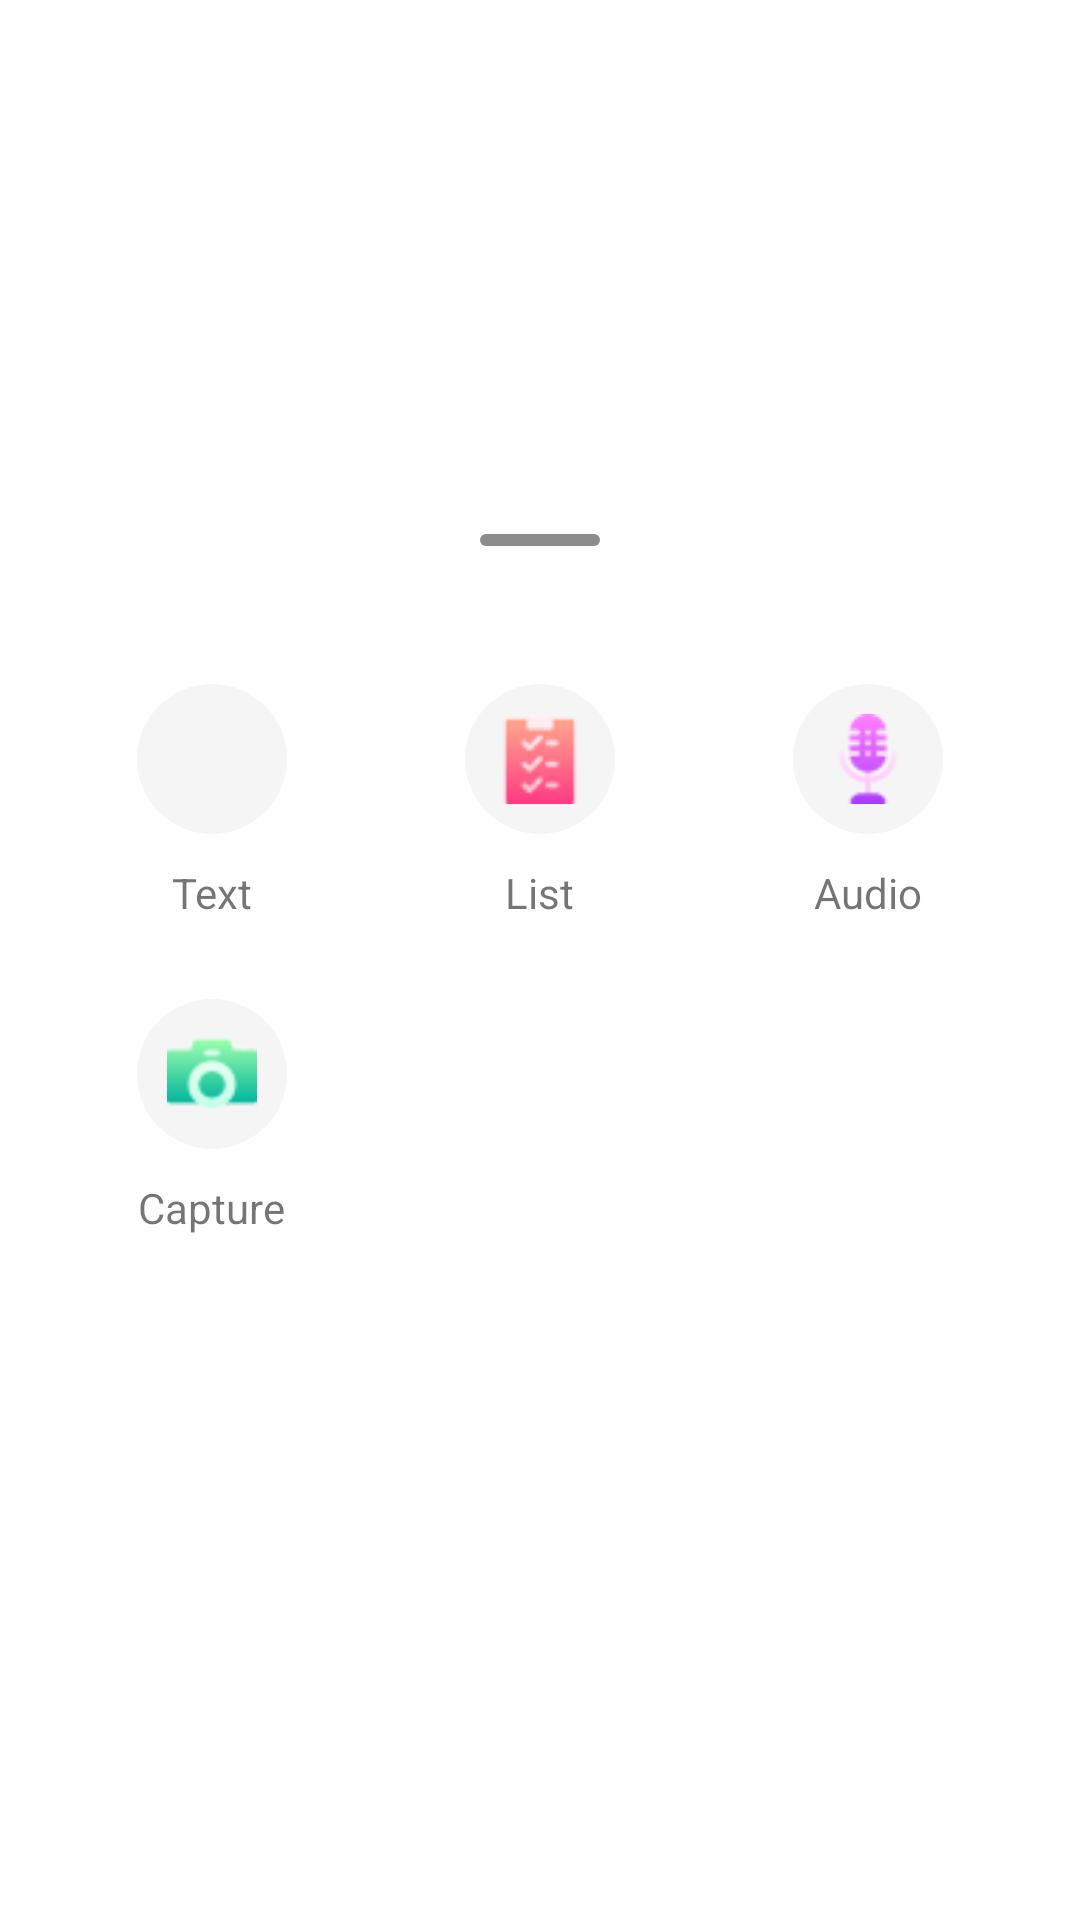

Icons on this 1080 × 1920 Android screen, each with the point to tap as (x=x, y=y):
camera: (x=212, y=1073)
microphone: (x=868, y=759)
